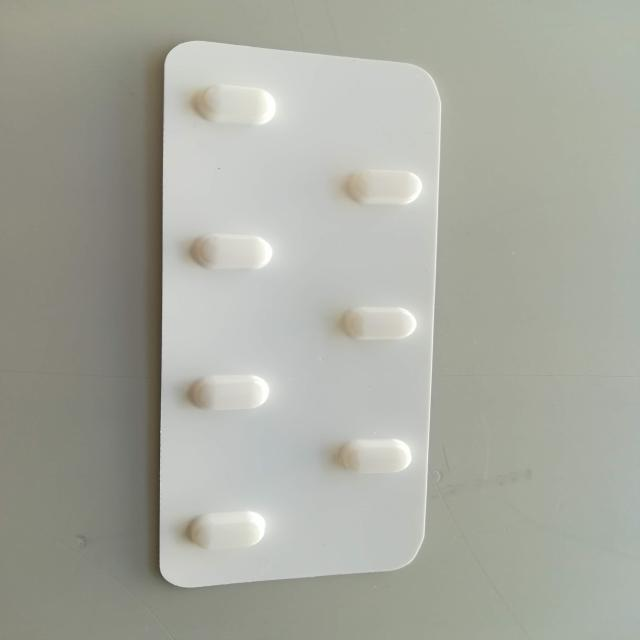Pill: (176, 221, 288, 281), (181, 72, 288, 130), (324, 160, 436, 214), (320, 298, 432, 350), (325, 428, 426, 482), (174, 363, 273, 414), (180, 505, 278, 556)
